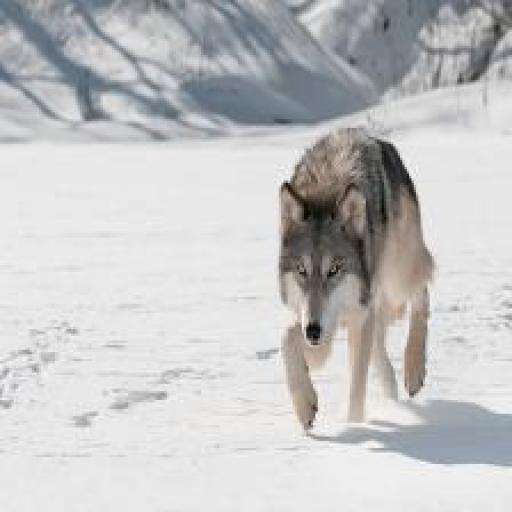wolf: (252, 89, 444, 447)
